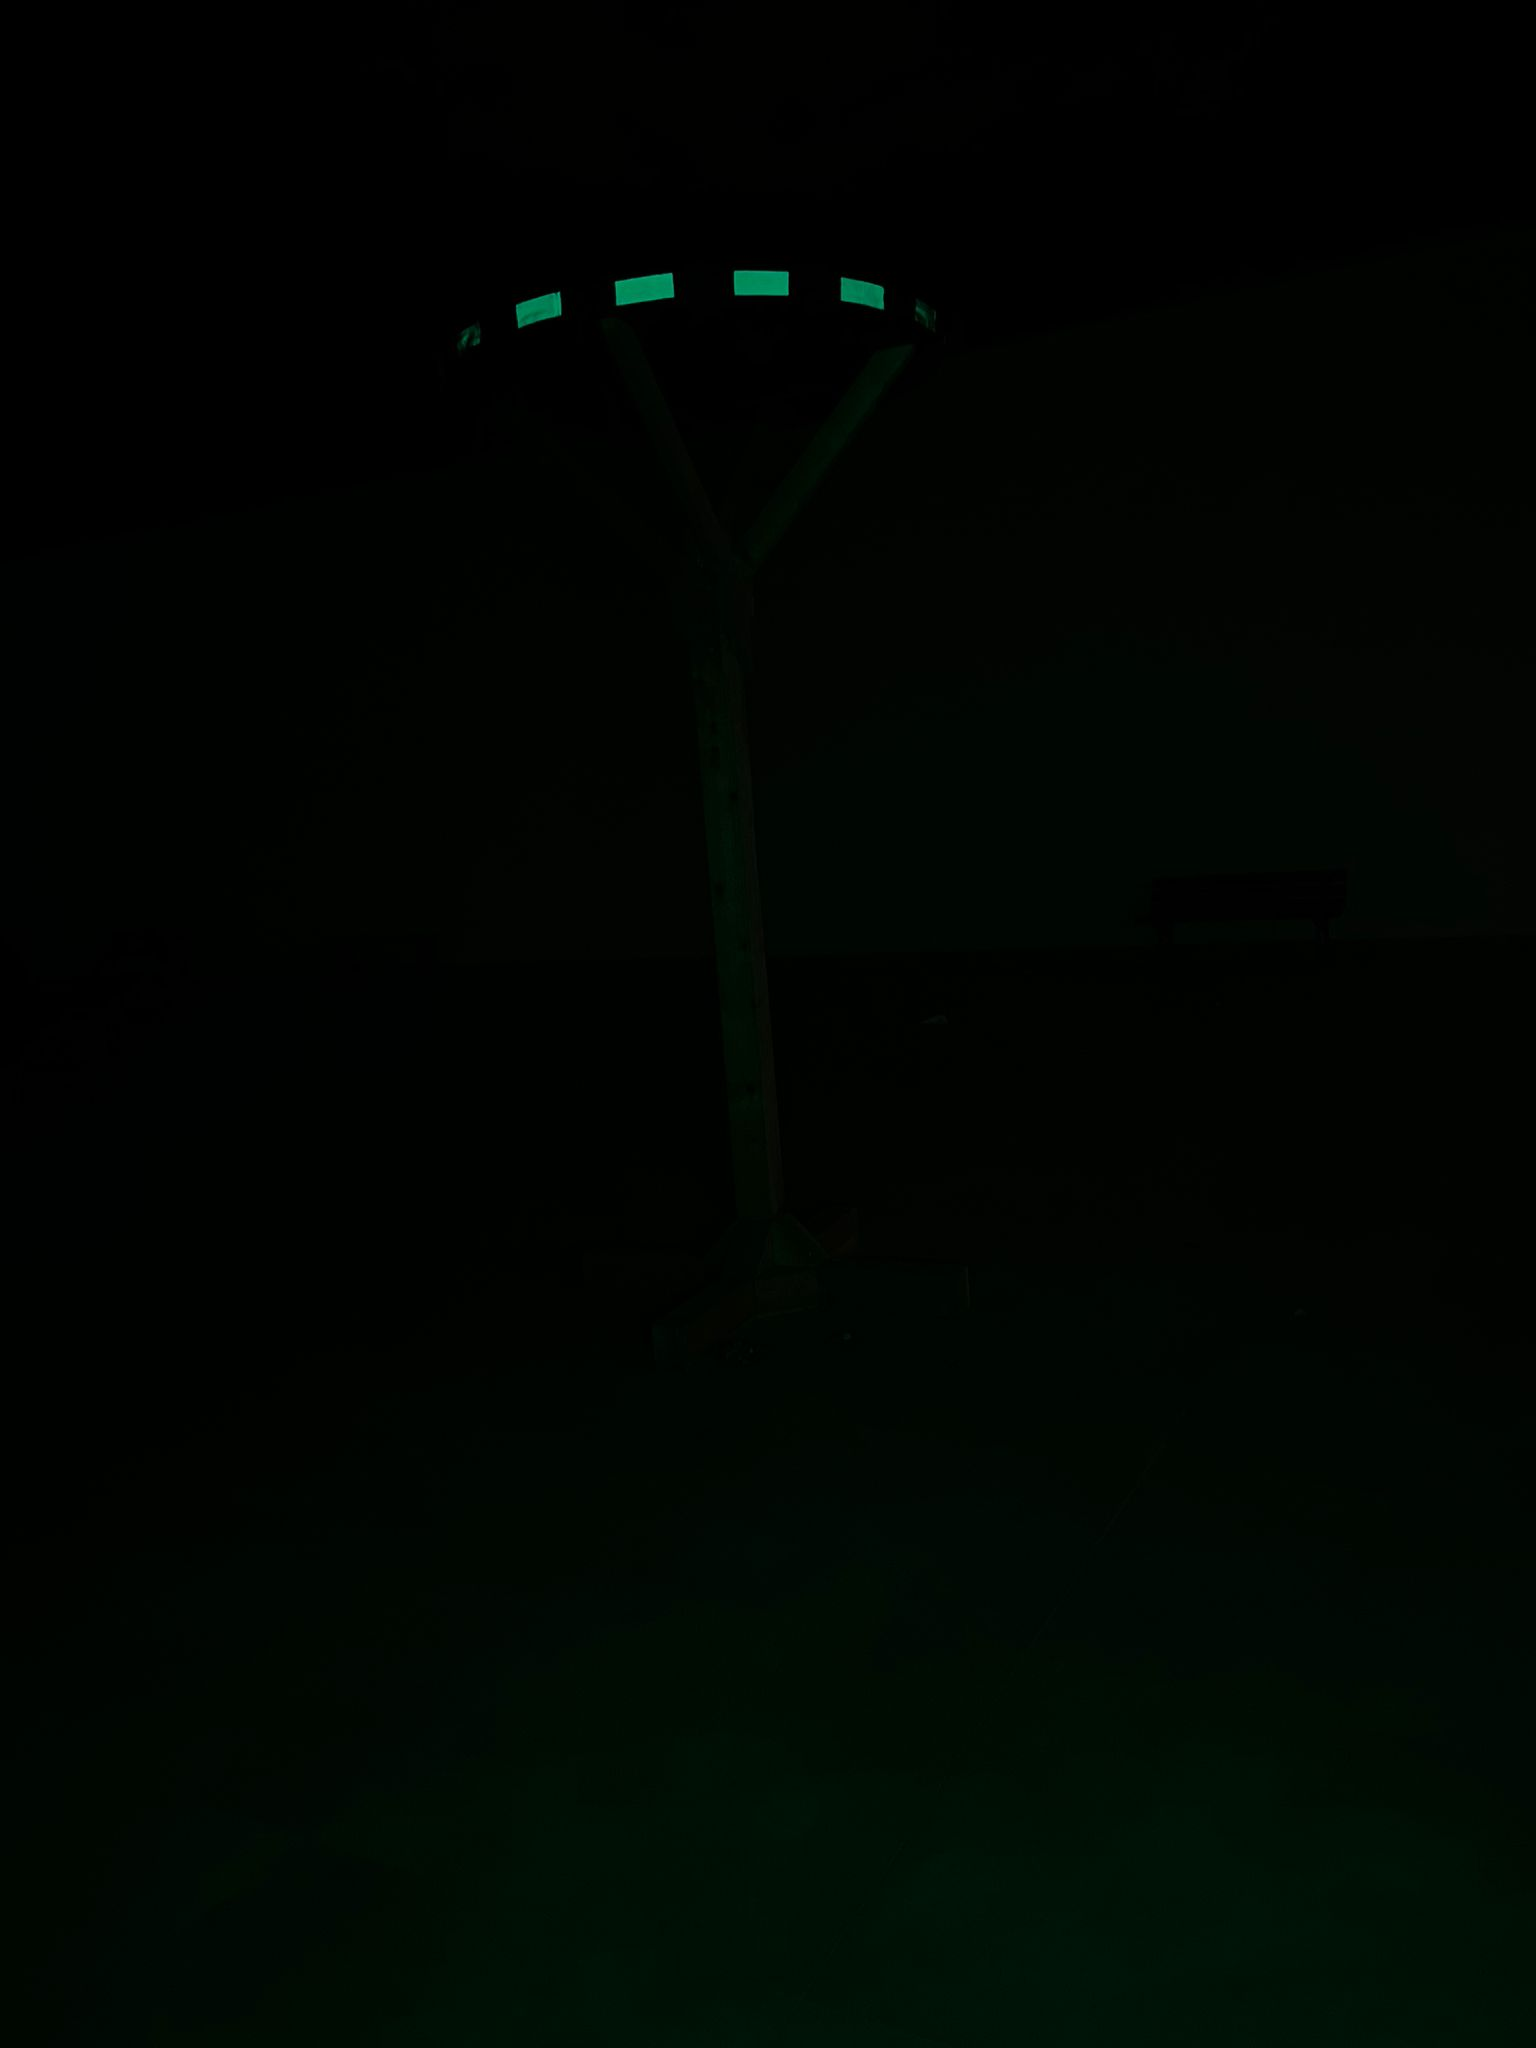hoop: (502, 264, 891, 332)
